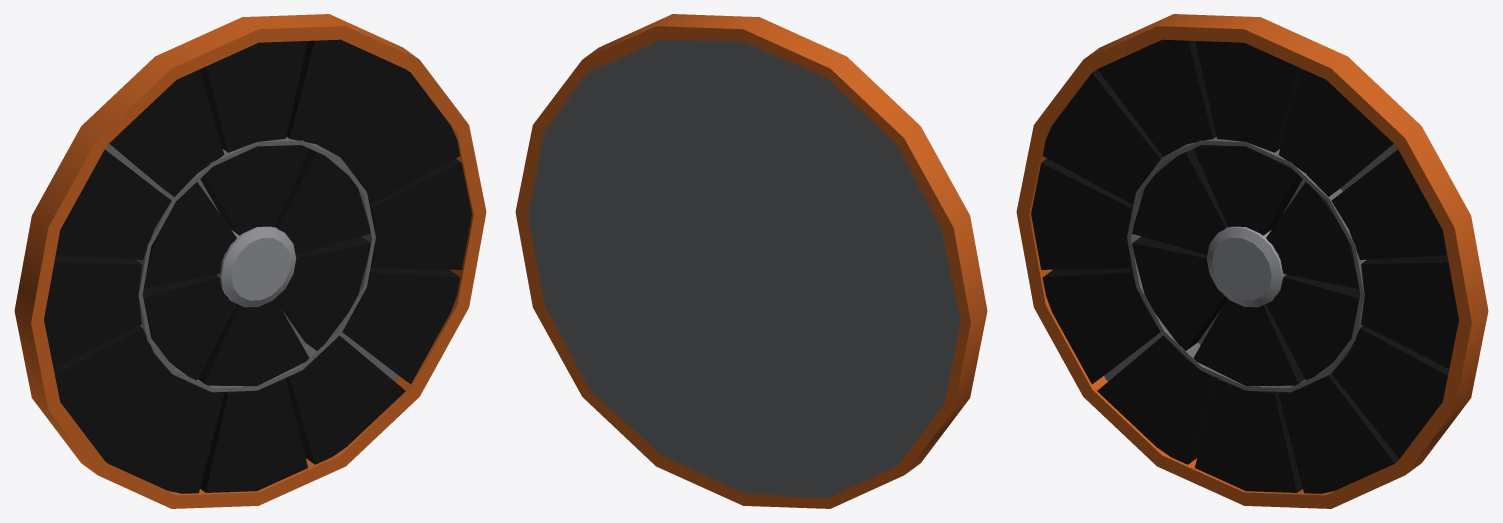
The model's file is engine_hot_emitter_annulus.obj.
3 renders of one model, left to right at view 1: azimuth 30°, elevation 25°; view 2: azimuth 150°, elevation 25°; view 3: azimuth 330°, elevation 25°, orthographic.
Parts seen in each view (by area): view 1: engine_hot_emitter_annulus; view 2: engine_hot_emitter_annulus; view 3: engine_hot_emitter_annulus.
Part boxes in pixels (<box>): engine_hot_emitter_annulus: <box>14,14,486,508</box>; engine_hot_emitter_annulus: <box>515,14,987,508</box>; engine_hot_emitter_annulus: <box>1016,14,1488,508</box>.
Bounding box in the file's own units: 4.61 × 4.61 × 0.33.
